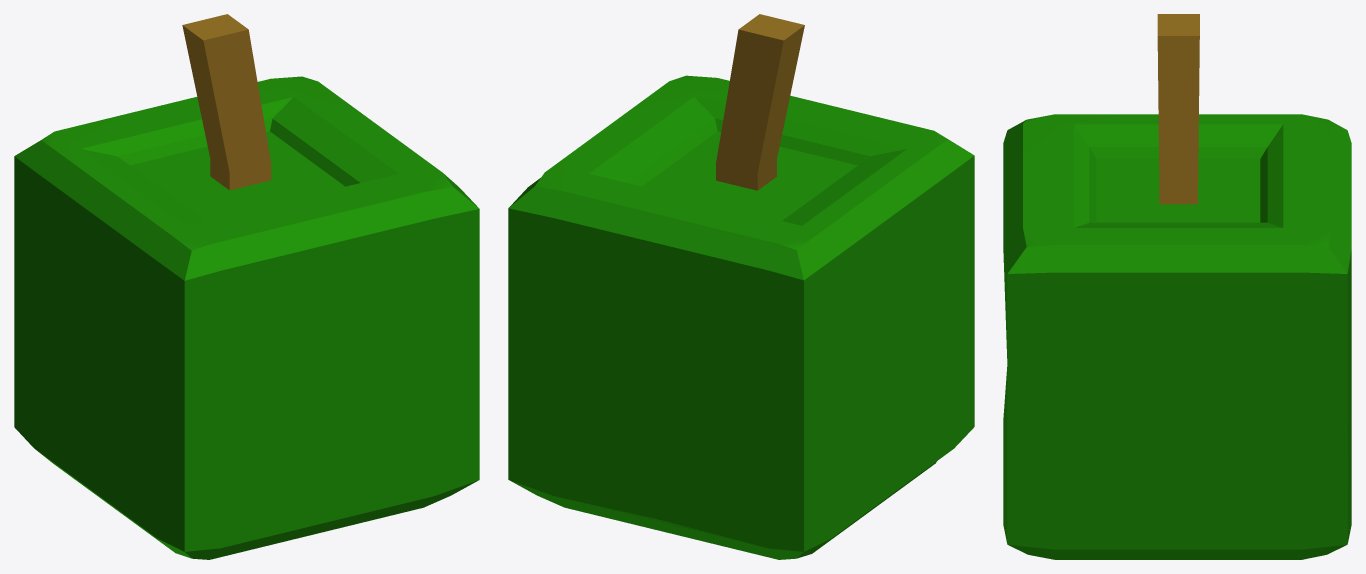
The model's file is Green_Apple.fbx.
The picture shows the model from 3 angles, left to right: view 1: azimuth 30°, elevation 25°; view 2: azimuth 150°, elevation 25°; view 3: azimuth 270°, elevation 25°; orthographic projection.
Visible parts, largest first — view 1: pCube1; view 2: pCube1; view 3: pCube1.
Boxes of the visible parts, x1=… form: pCube1: x1=14, y1=14, x2=479, y2=559; pCube1: x1=508, y1=14, x2=974, y2=559; pCube1: x1=1003, y1=14, x2=1351, y2=559.
Bounding box in the file's own units: 1 × 1.44 × 1.
